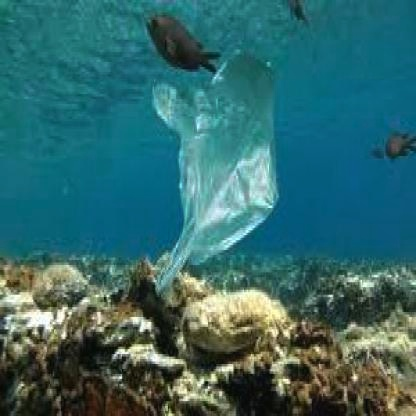pbag: (153, 60, 280, 297)
